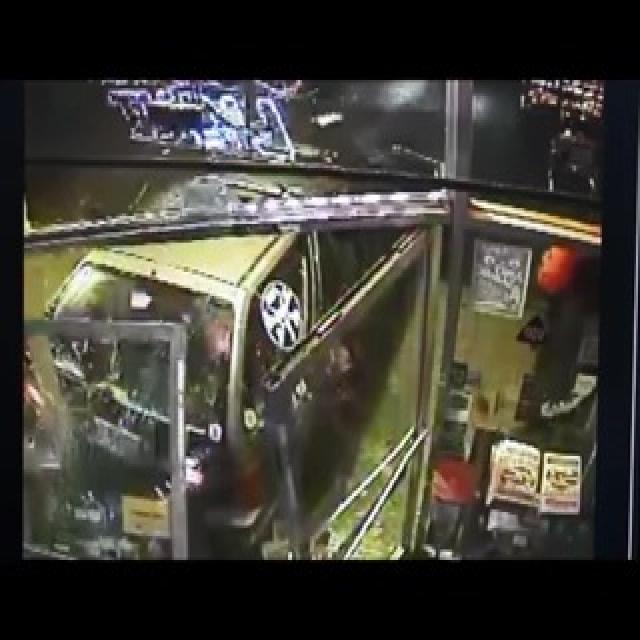burglary: (58, 218, 342, 499)
